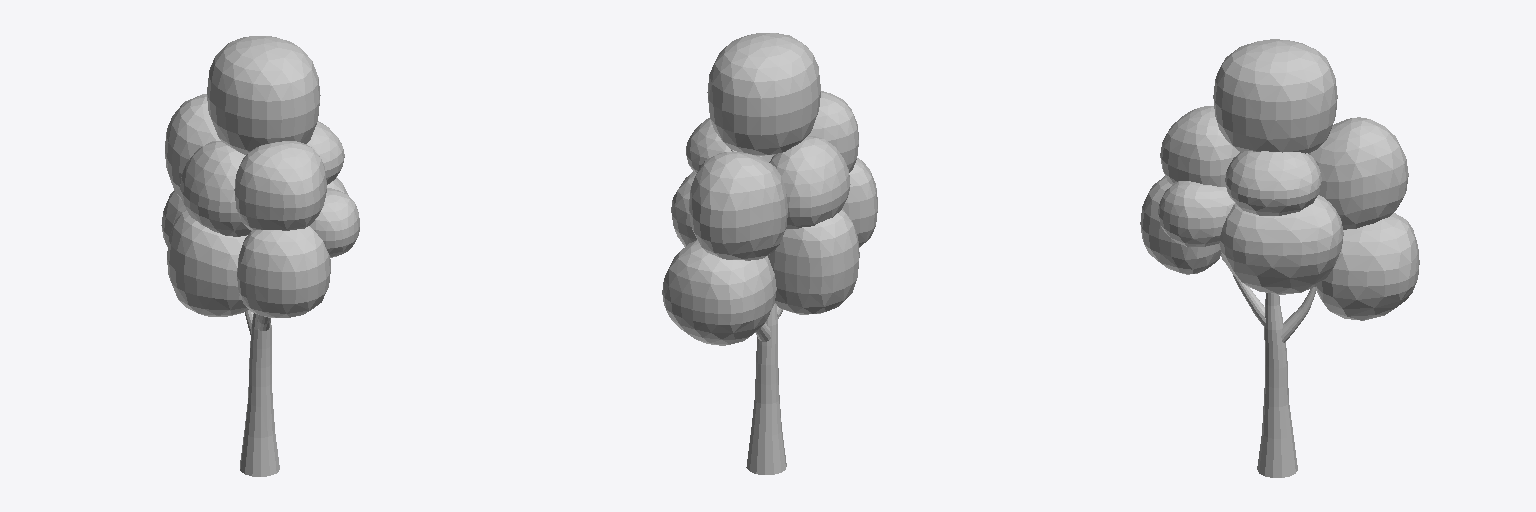
Rendered from Tree1_1.obj.
The picture shows the model from 3 angles: view 1: azimuth 30°, elevation 25°; view 2: azimuth 150°, elevation 25°; view 3: azimuth 270°, elevation 25°; orthographic projection.
Parts seen in each view (by area): view 1: Tree1_1; view 2: Tree1_1; view 3: Tree1_1.
Boxes of the visible parts, x1=… form: Tree1_1: x1=161, y1=36, x2=359, y2=476; Tree1_1: x1=662, y1=33, x2=877, y2=474; Tree1_1: x1=1140, y1=39, x2=1419, y2=477.
Size of the model in its own units: 11.97 by 29.12 by 17.37.